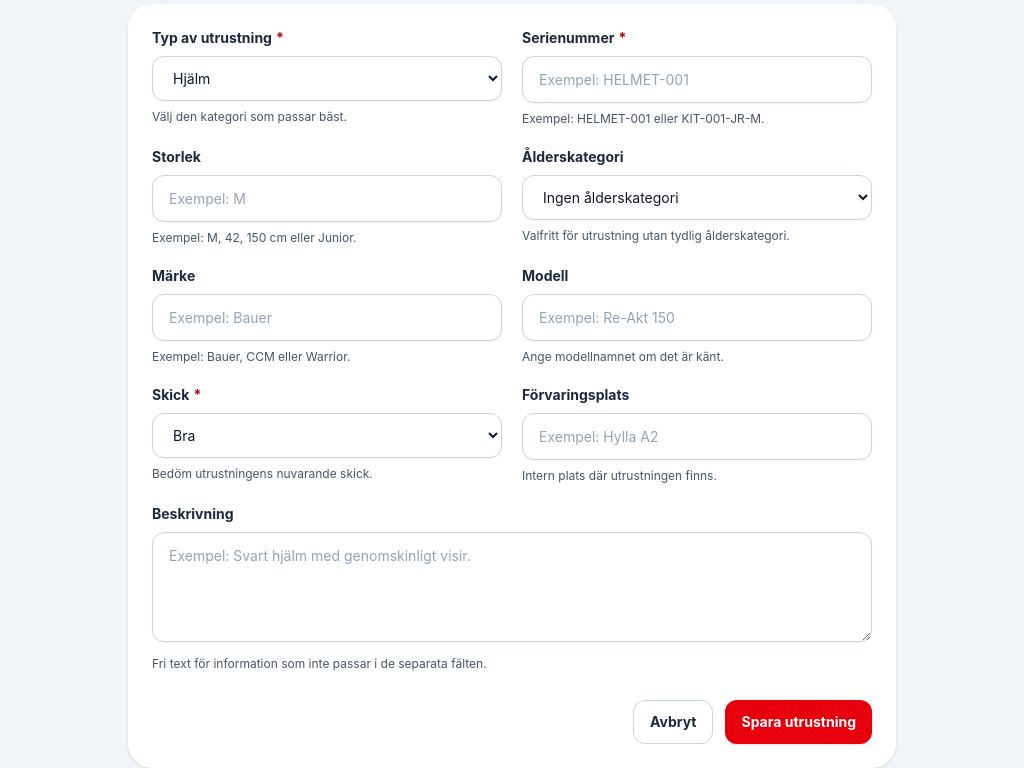
Test: AddEquipment › clears field error when serial number changes
(page scrolled)
Submit the form named "spara utrustning"
(page scrolled)
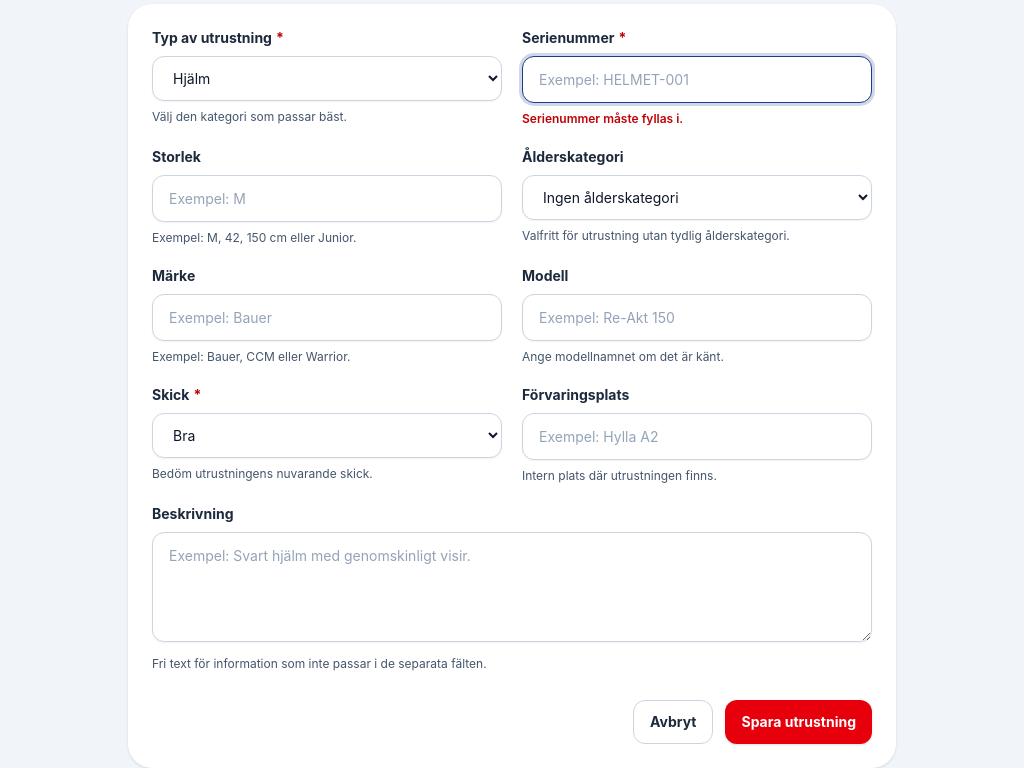
Check: the text "Serienummer måste fyllas i." is shown, box x1=522 y1=111 x2=683 y2=126
In the field labelled "Serienummer*": (697, 79) x1=522 y1=56 x2=872 y2=103, type "HELMET-001"
(page scrolled)
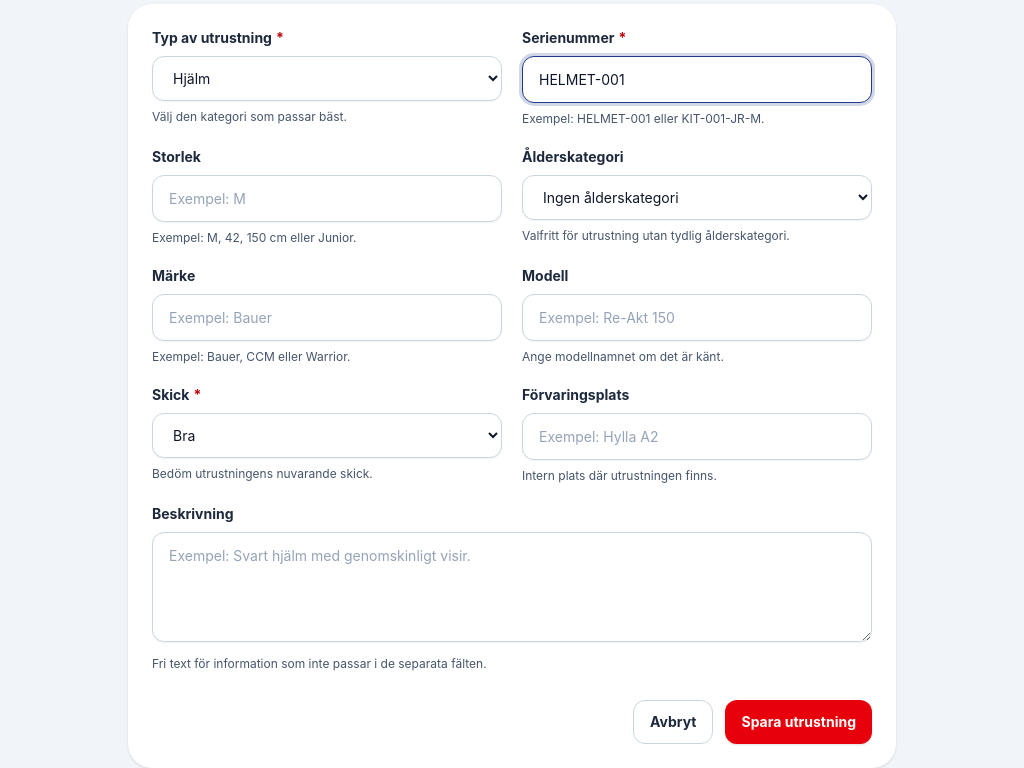
Check: the text "Serienummer måste fyllas i" is gone
